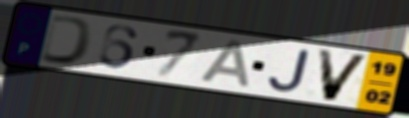6: (98, 24, 140, 71)
7: (156, 27, 206, 82)
A: (196, 38, 252, 89)
D: (37, 13, 97, 68)
J: (266, 47, 313, 94)
V: (315, 46, 373, 103)
